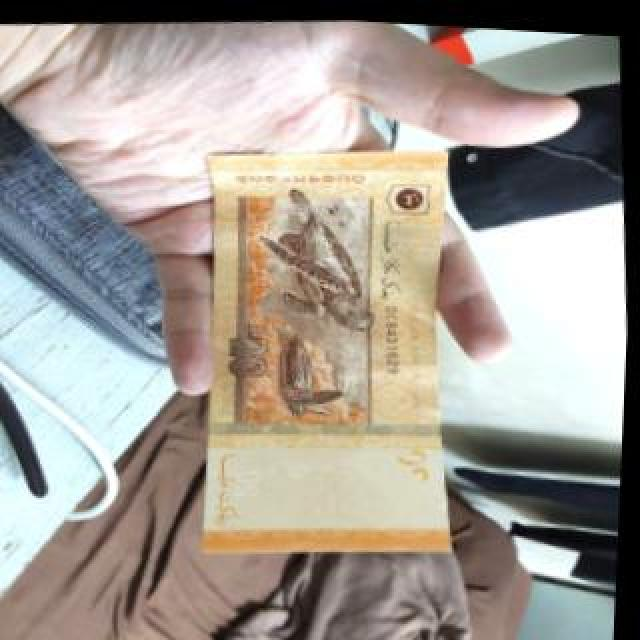20 Ringgit: (182, 134, 471, 567)
